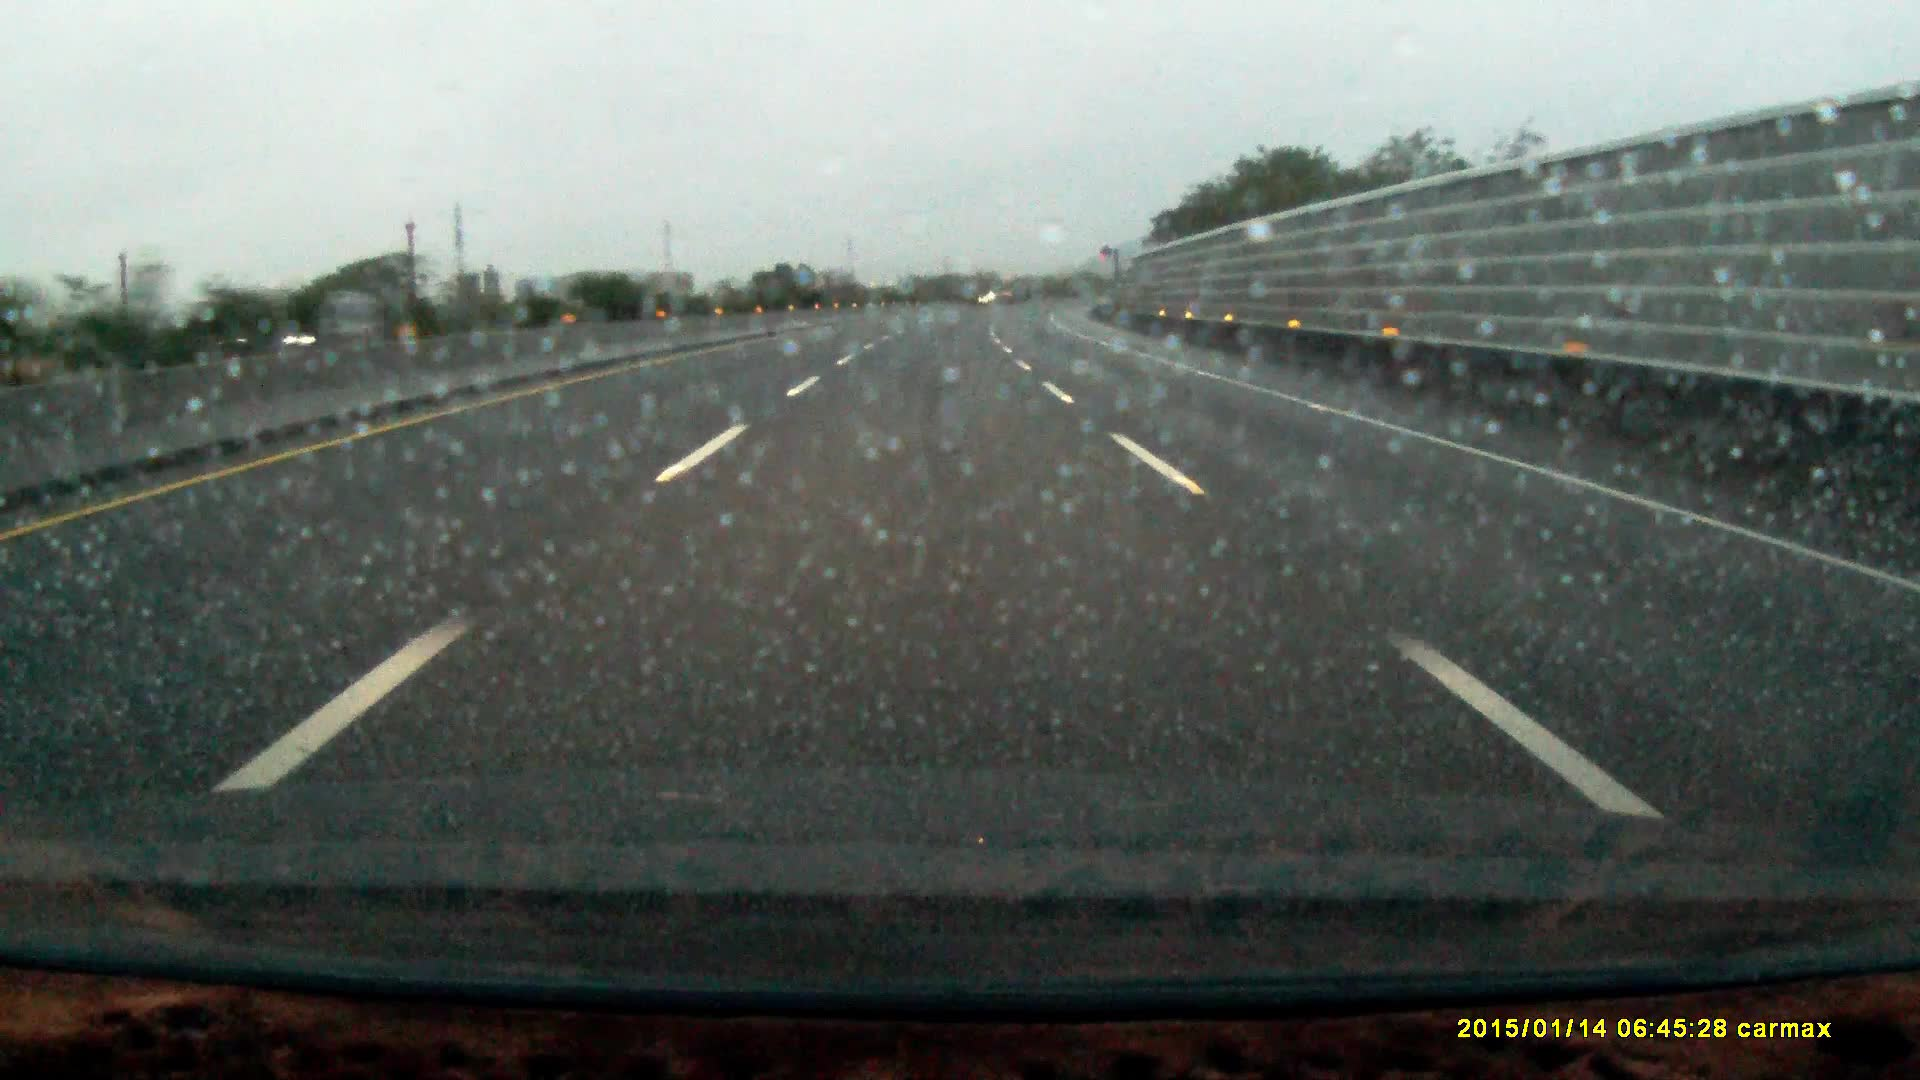vehicle: (214, 309, 328, 353)
